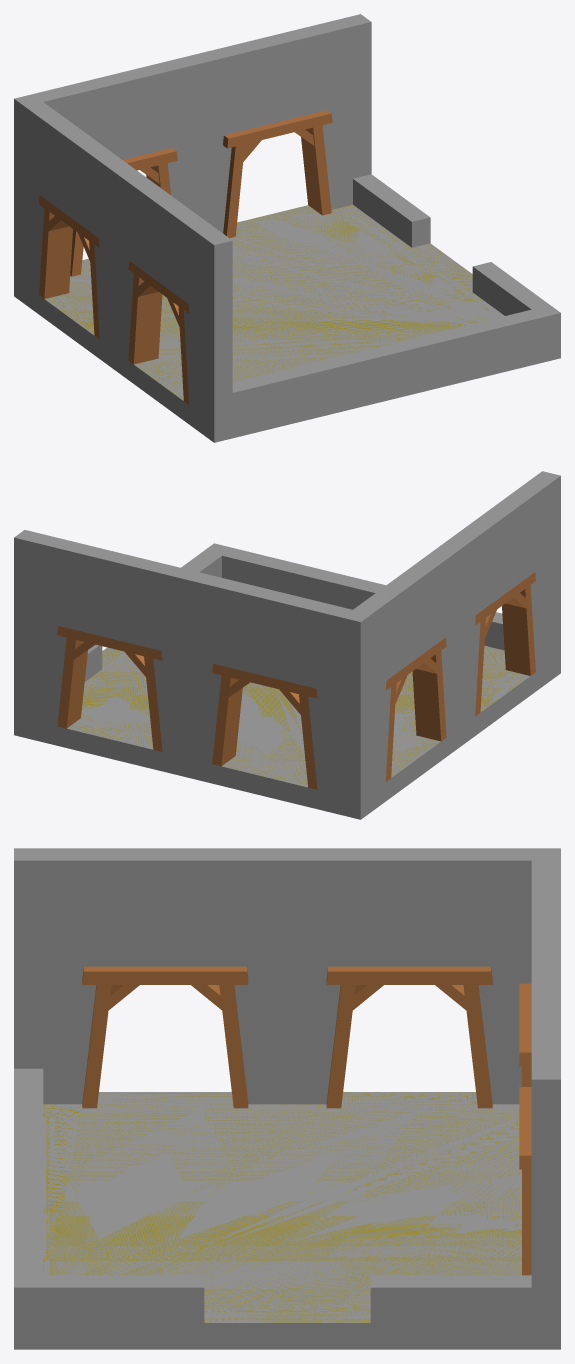
The model's file is salaPequeñaCuatroPuertas.fbx.
3 renders of one model, top to bottom at view 1: azimuth 30°, elevation 25°; view 2: azimuth 150°, elevation 25°; view 3: azimuth 270°, elevation 25°, orthographic. The views are drawn at different scales.
Parts seen in each view (by area): view 1: group_0, group_5, group_2, group_4, group_1, group_3; view 2: group_0, group_5, group_2, group_3, group_4, group_1; view 3: group_0, group_5, group_1, group_4, group_2, group_3.
Part boxes in pixels (x1,y1,x2,y2): group_0: [14, 14, 560, 442]; group_5: [44, 204, 504, 400]; group_2: [223, 110, 332, 238]; group_4: [39, 195, 99, 339]; group_1: [128, 260, 188, 404]; group_3: [70, 148, 177, 276]; group_0: [14, 471, 560, 819]; group_5: [67, 645, 530, 787]; group_2: [57, 626, 162, 751]; group_3: [212, 663, 317, 789]; group_4: [386, 637, 446, 781]; group_1: [475, 572, 535, 716]; group_0: [14, 848, 560, 1349]; group_5: [43, 1092, 521, 1322]; group_1: [82, 966, 248, 1108]; group_4: [326, 966, 492, 1108]; group_2: [519, 1087, 531, 1275]; group_3: [519, 983, 531, 1086].
Bounding box in the file's own units: 1120 × 610 × 1120.
